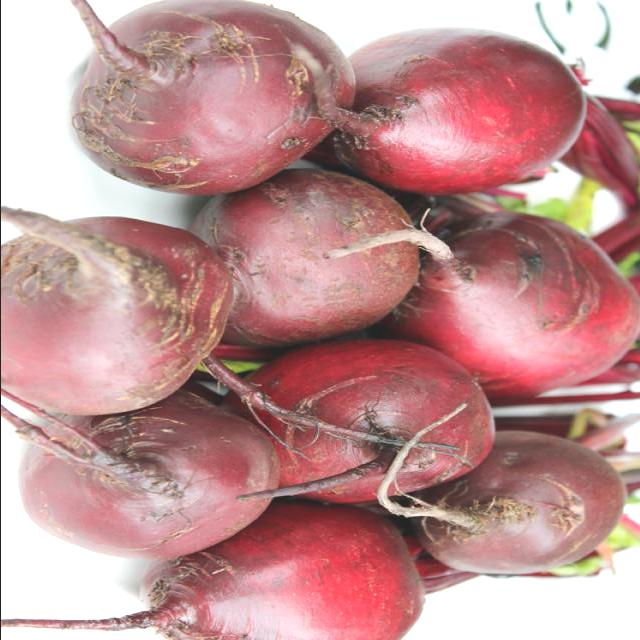beet: (68, 1, 356, 196), (1, 216, 232, 417), (330, 26, 587, 194), (416, 213, 640, 399), (135, 502, 422, 640), (26, 398, 278, 555), (259, 344, 497, 506), (204, 169, 418, 347), (413, 431, 622, 582)
